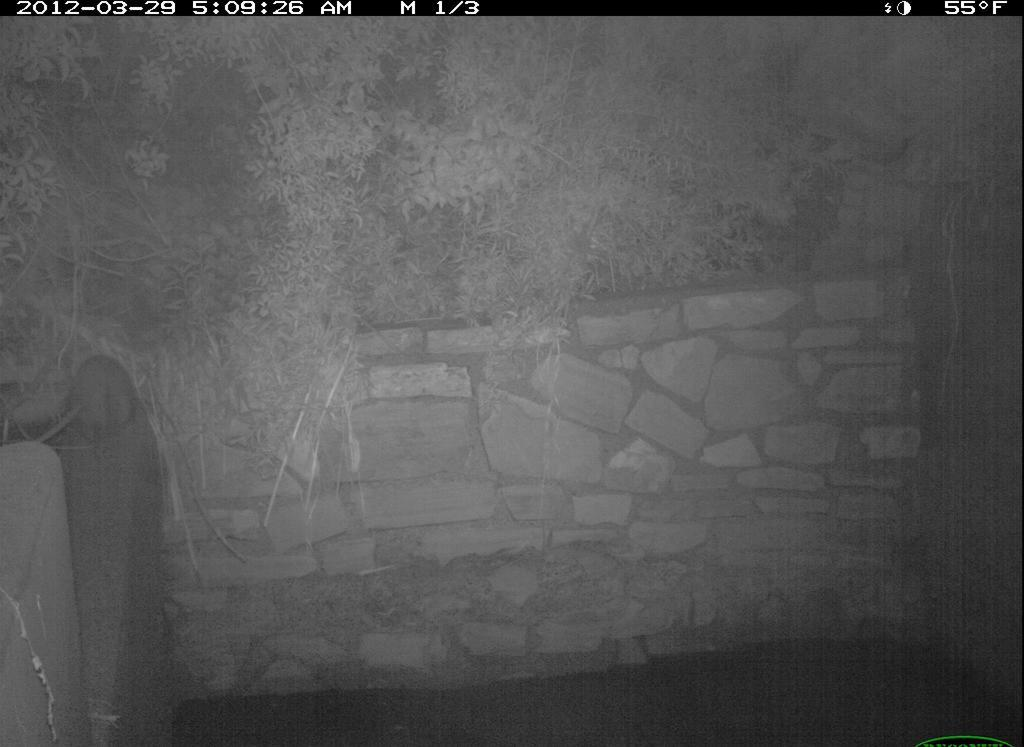opossum: (27, 340, 144, 466)
